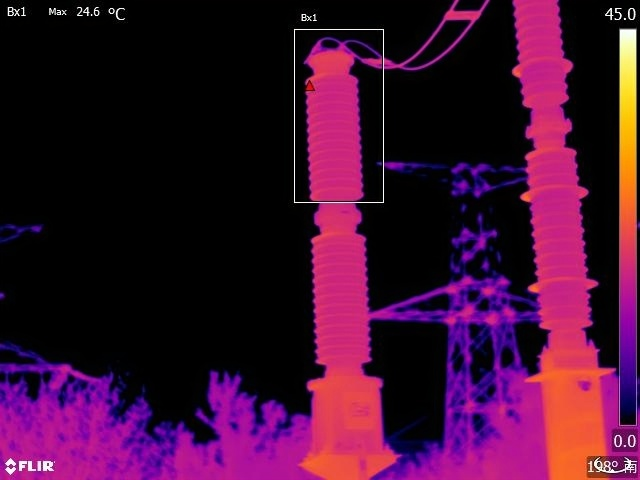post insulator: (501, 1, 611, 385)
potential transformer: (299, 35, 401, 453)
